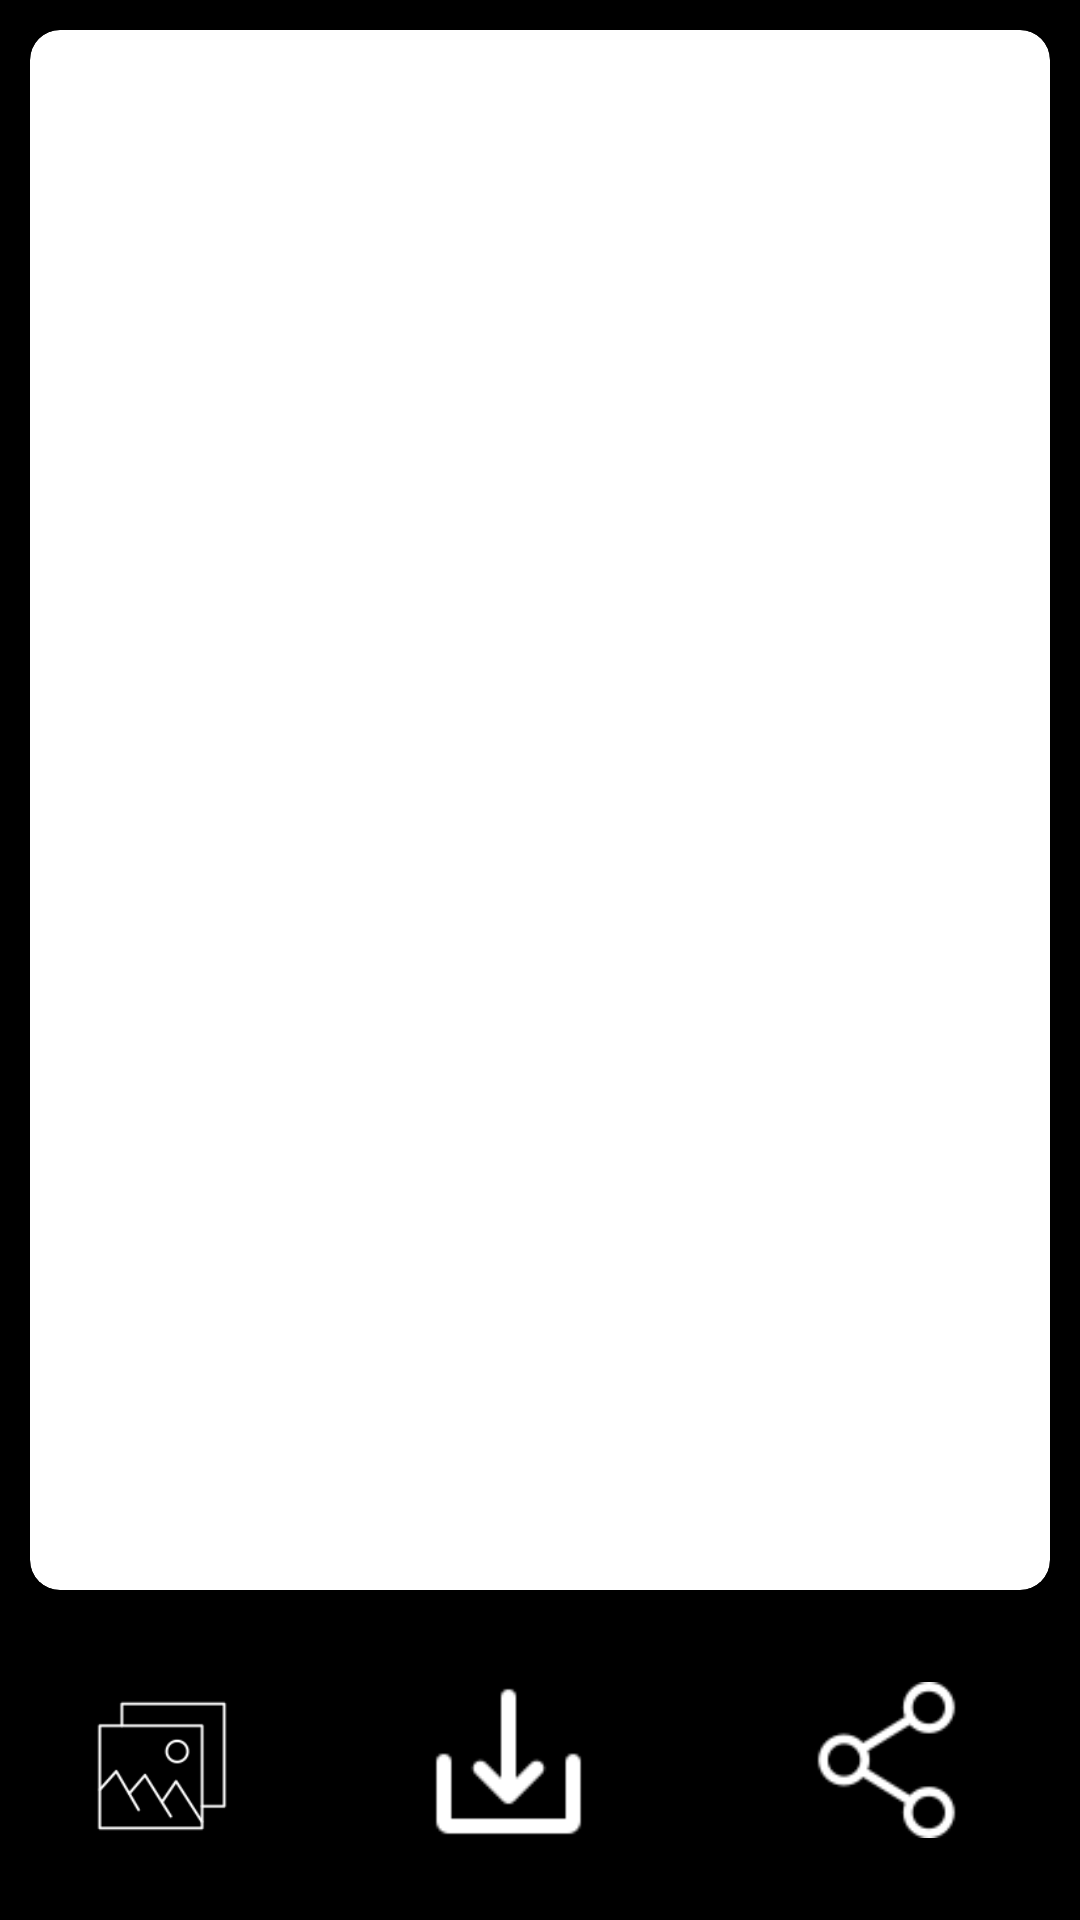

Named icons in this screenshot (1080w x 1920h) and their centers, (x,y):
download: (508,1761)
share: (886,1760)
